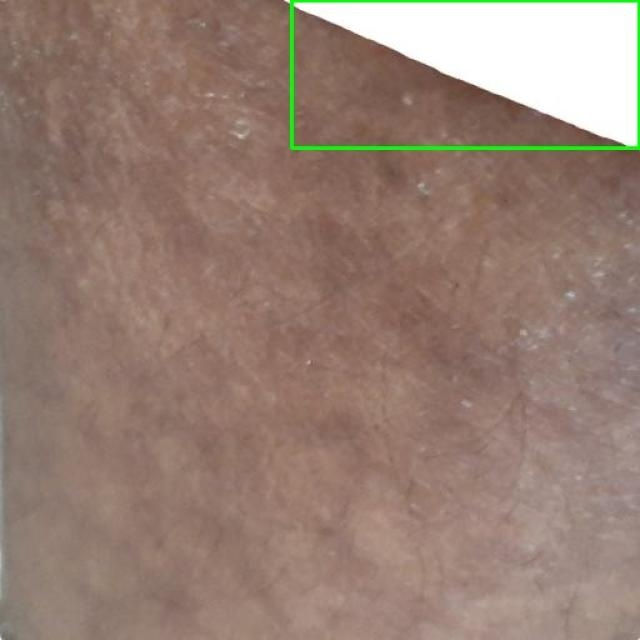Contact Dermatitis: (291, 0, 639, 148)
